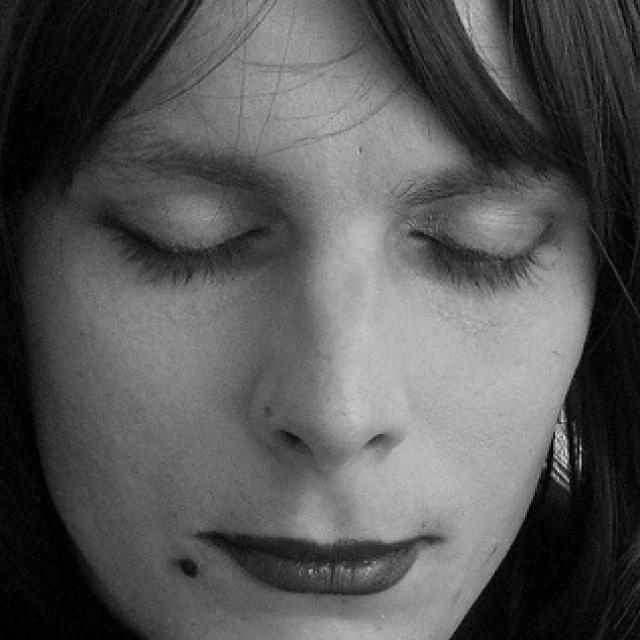real: (19, 0, 595, 640), (69, 164, 570, 312)
